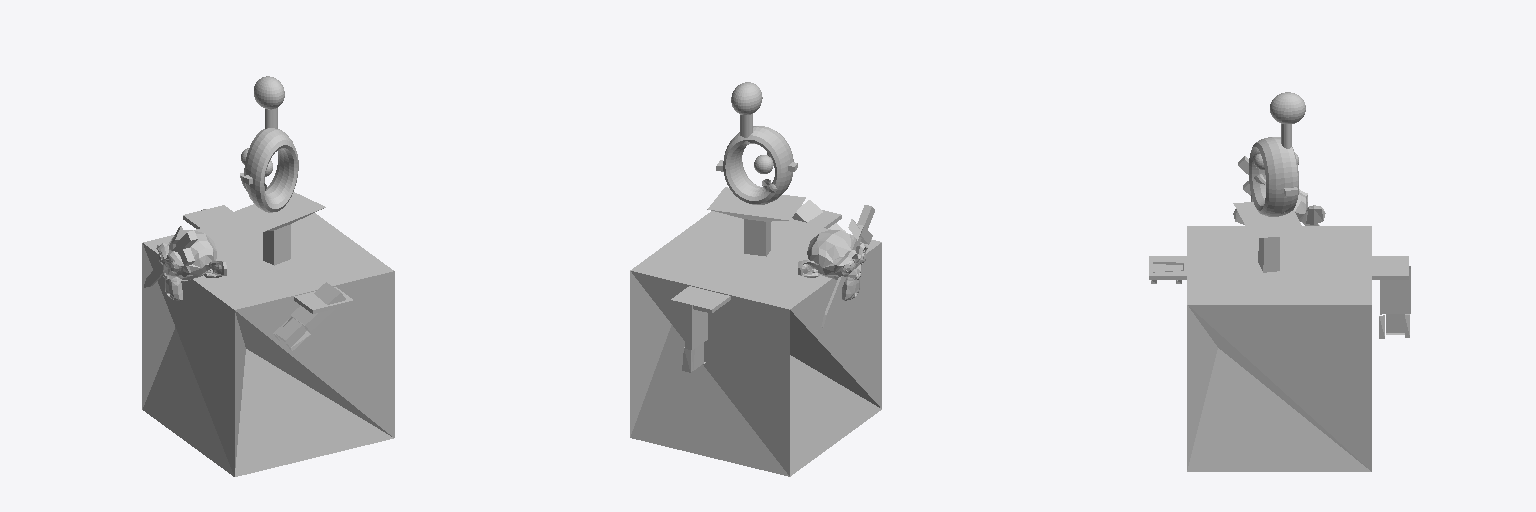
File: Robot_000042.obj
3 renders of one model, left to right at view 1: azimuth 30°, elevation 25°; view 2: azimuth 150°, elevation 25°; view 3: azimuth 270°, elevation 25°, orthographic.
Parts seen in each view (by area): view 1: Cube.001_Cube, Cube_Cube.001, Suzanne, Left_Hand.001_Cube.005, Cube.002_Cube.004, Cube.003_Cube.006, Sphere; view 2: Cube.001_Cube, Cube_Cube.001, Suzanne, Cube.002_Cube.004, Left_Hand_Cube.002, Cube.003_Cube.006, Sphere; view 3: Cube.001_Cube, Cube_Cube.001, Left_Hand_Cube.002, Cube.002_Cube.004, Sphere, Suzanne.
Boxes of the visible parts, <box> form: Cube.001_Cube: <box>142,213,394,476</box>; Cube_Cube.001: <box>227,128,325,265</box>; Suzanne: <box>156,230,226,300</box>; Left_Hand.001_Cube.005: <box>273,282,345,350</box>; Cube.002_Cube.004: <box>183,205,353,313</box>; Cube.003_Cube.006: <box>144,226,197,287</box>; Sphere: <box>254,76,284,109</box>; Cube.001_Cube: <box>630,211,881,476</box>; Cube_Cube.001: <box>707,126,805,256</box>; Suzanne: <box>798,230,867,300</box>; Cube.002_Cube.004: <box>670,205,841,313</box>; Left_Hand_Cube.002: <box>682,304,707,372</box>; Cube.003_Cube.006: <box>821,205,874,327</box>; Sphere: <box>731,82,762,114</box>; Cube.001_Cube: <box>1187,226,1371,471</box>; Cube_Cube.001: <box>1233,137,1305,272</box>; Left_Hand_Cube.002: <box>1379,266,1410,338</box>; Cube.002_Cube.004: <box>1149,256,1408,279</box>; Sphere: <box>1270,92,1305,123</box>; Suzanne: <box>1233,189,1325,224</box>.
Size of the model in its own units: 2.3 by 4.09 by 2.83.